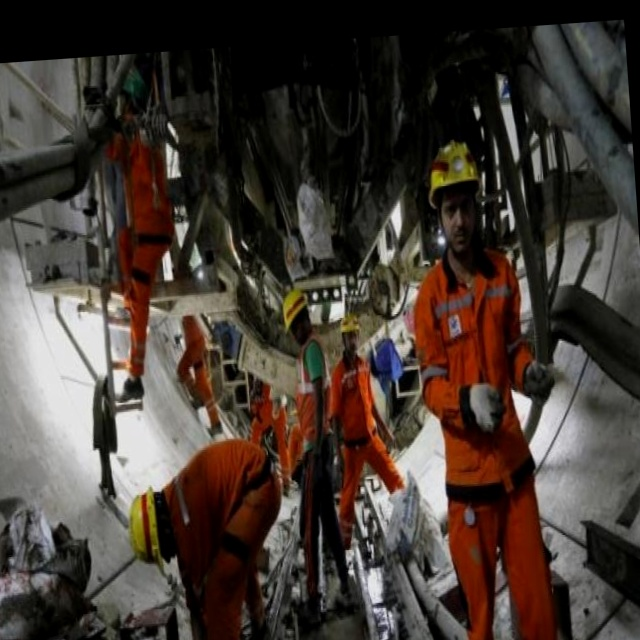Con_Casco: (425, 136, 486, 249), (126, 487, 175, 576), (279, 288, 312, 345)
